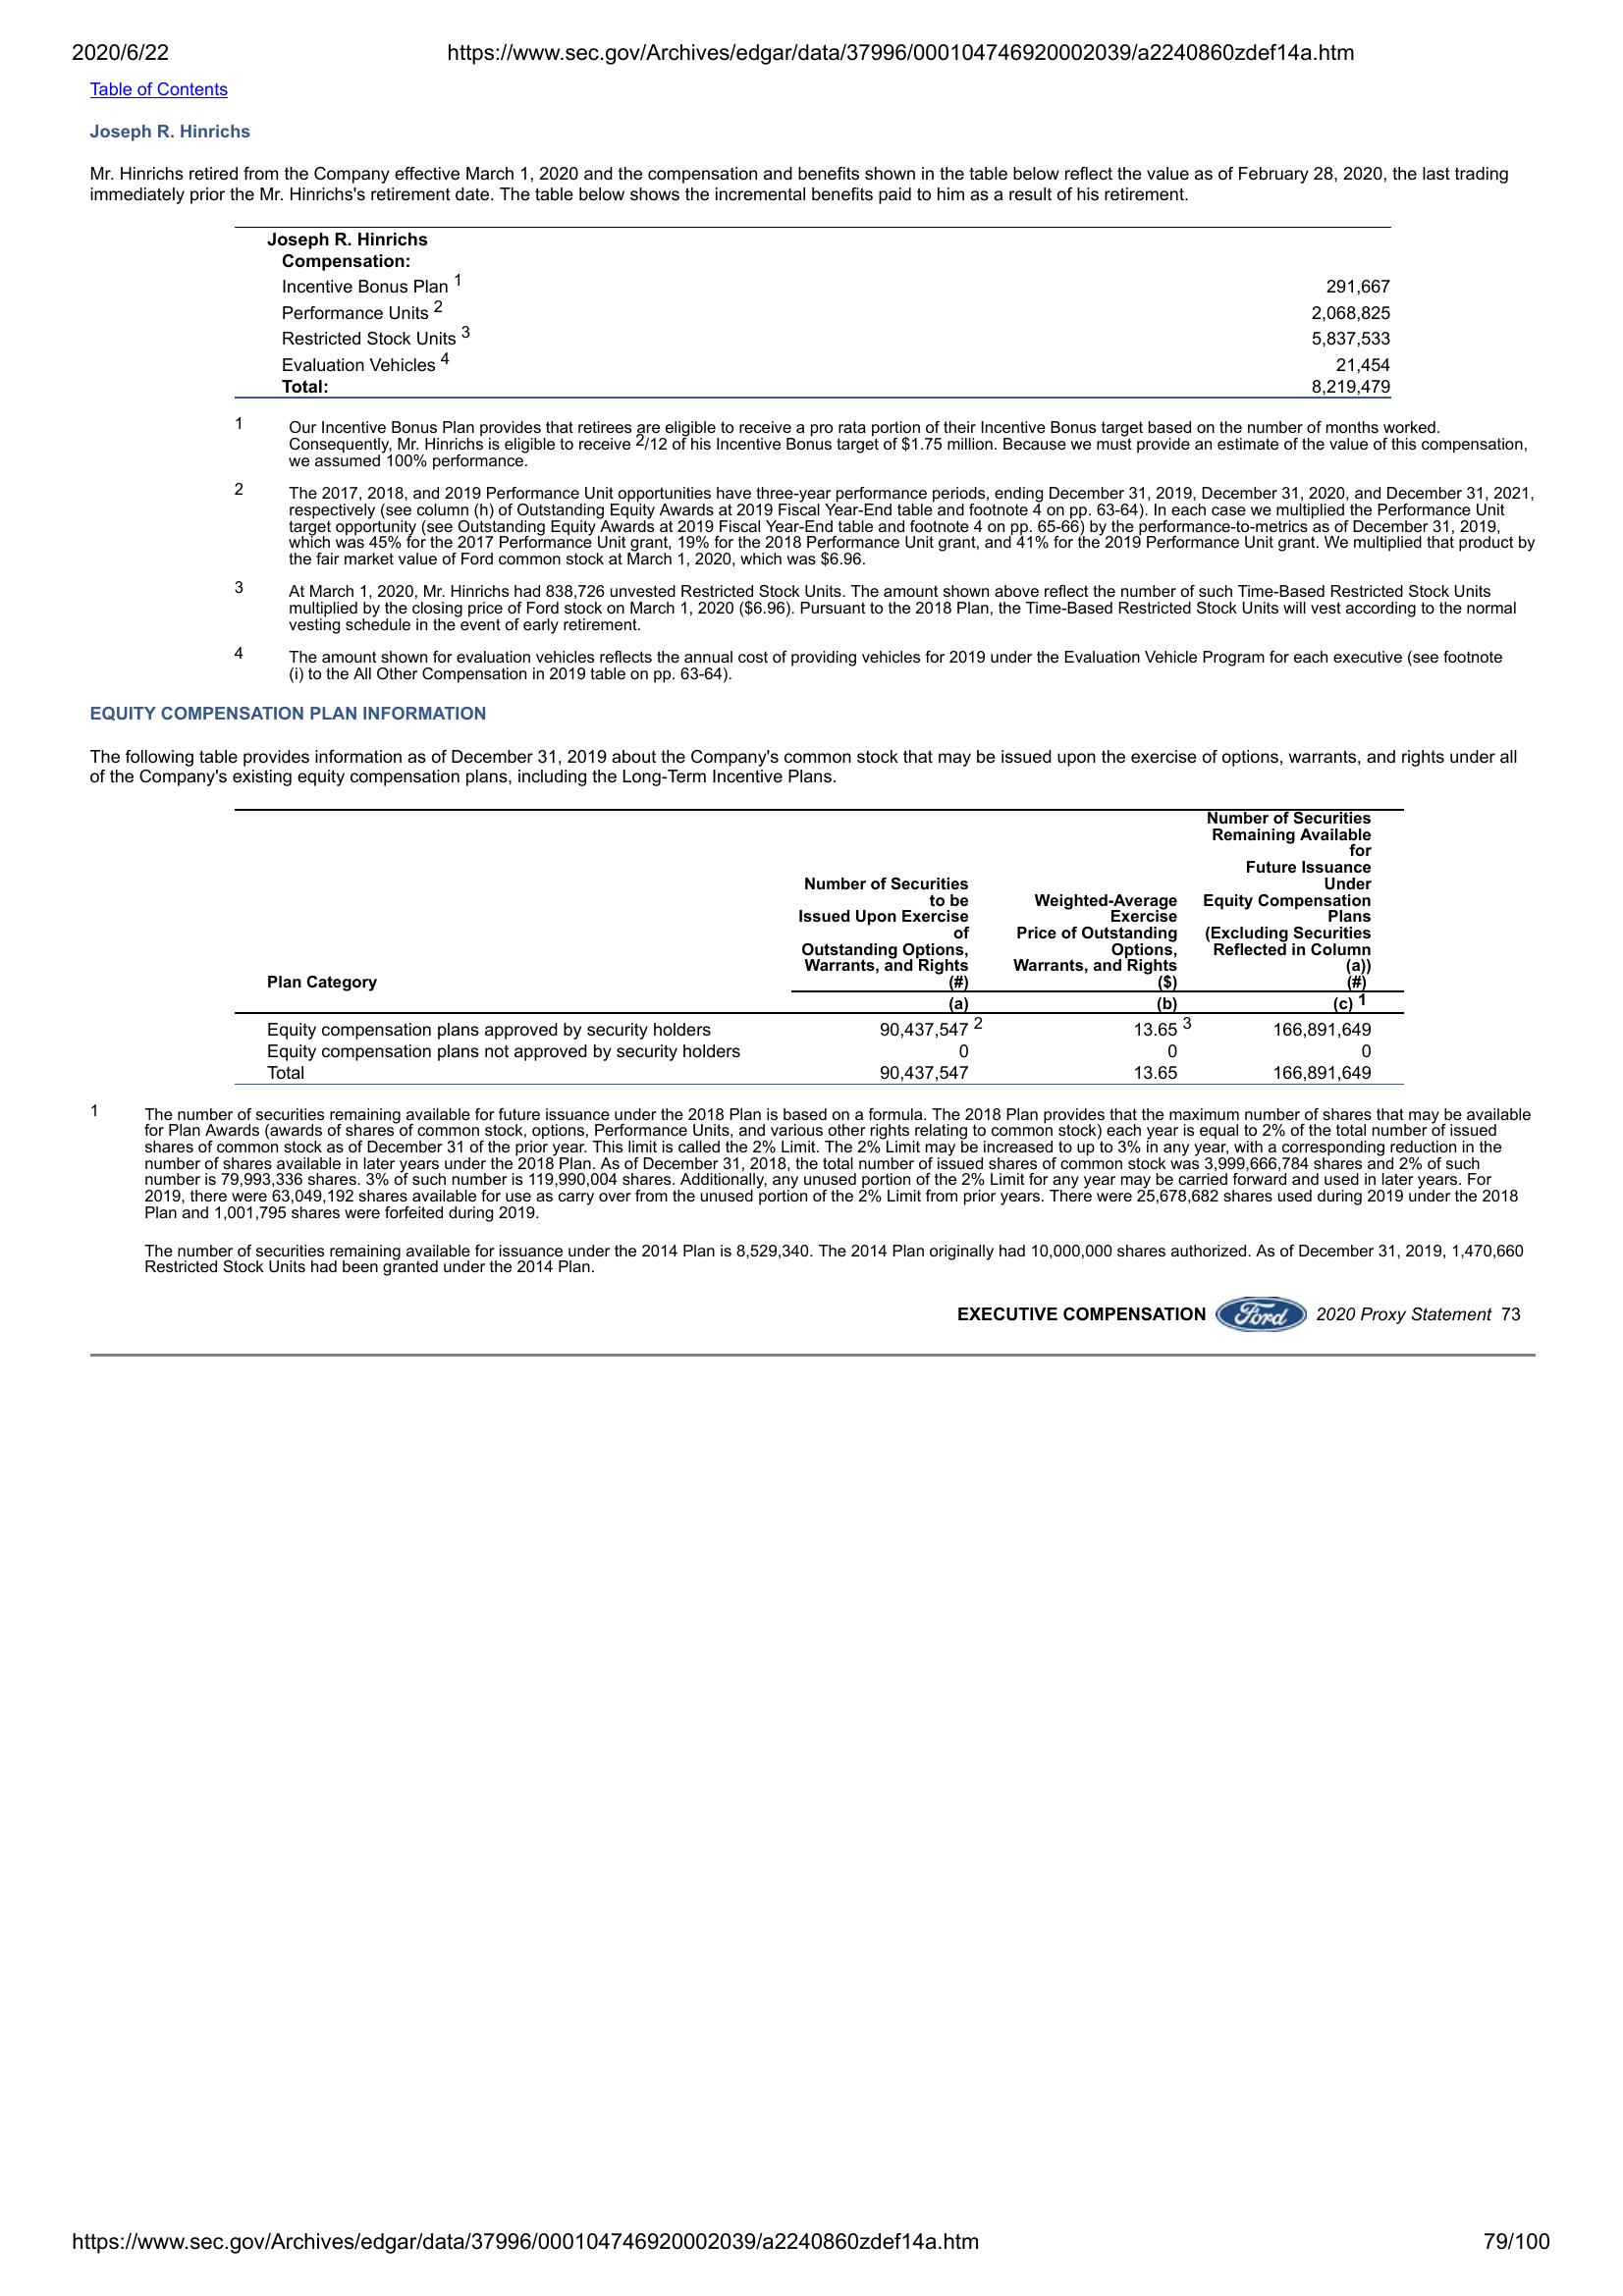table: (228, 799, 1405, 1092), (227, 219, 1403, 402)
